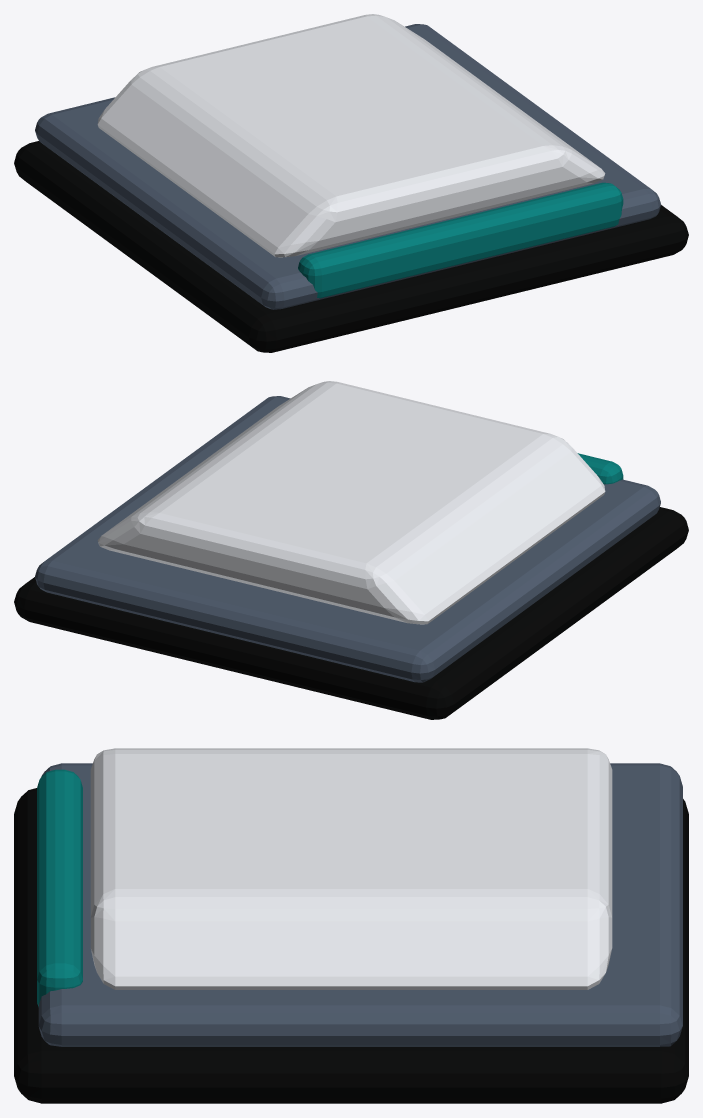
The model's file is modular_foot.obj.
The picture shows the model from 3 angles, top to bottom: view 1: azimuth 30°, elevation 25°; view 2: azimuth 150°, elevation 25°; view 3: azimuth 270°, elevation 25°; orthographic projection. The views are drawn at different scales.
Parts seen in each view (by area): view 1: modular_foot; view 2: modular_foot; view 3: modular_foot.
Boxes of the visible parts, box(x1,y1,x2,y2) form: modular_foot: box(14, 14, 688, 352); modular_foot: box(14, 381, 688, 719); modular_foot: box(14, 748, 688, 1103).
Bounding box in the file's own units: 0.22 × 0.0535 × 0.22.
